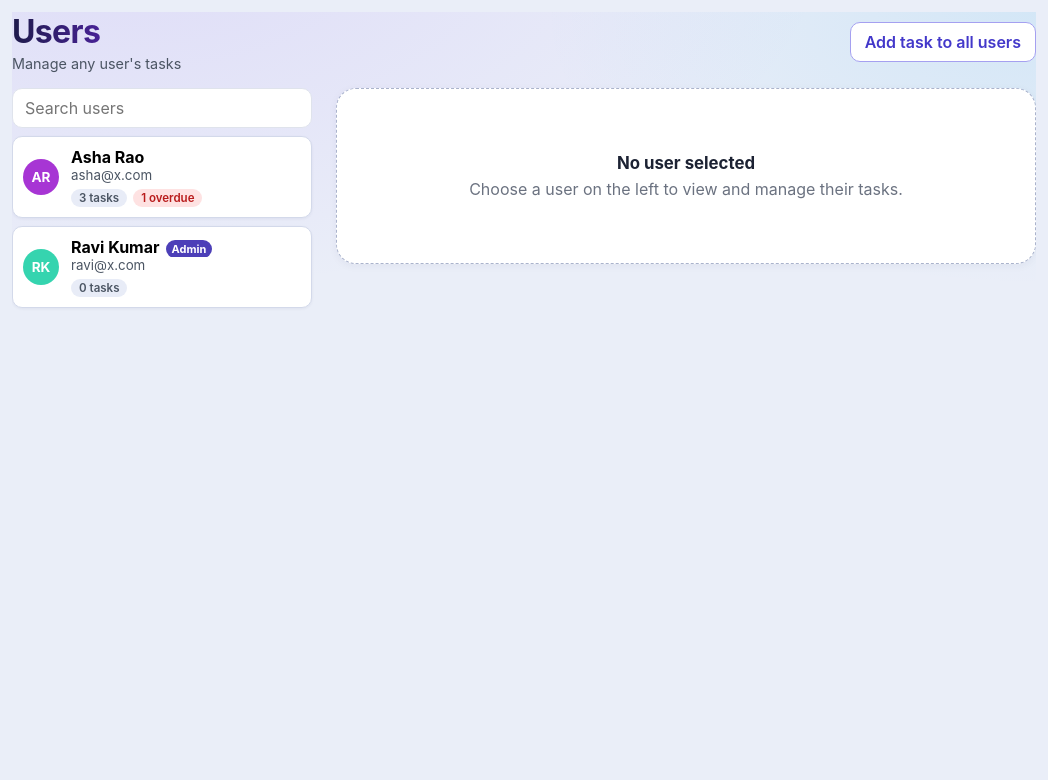
Scenario: AdminPanel › loads and shows the selected user tasks and their summary
Click the button "AR Asha Rao asha@x.com 3 tasks 1 overdue" at [41, 177], box [12, 136, 312, 218]
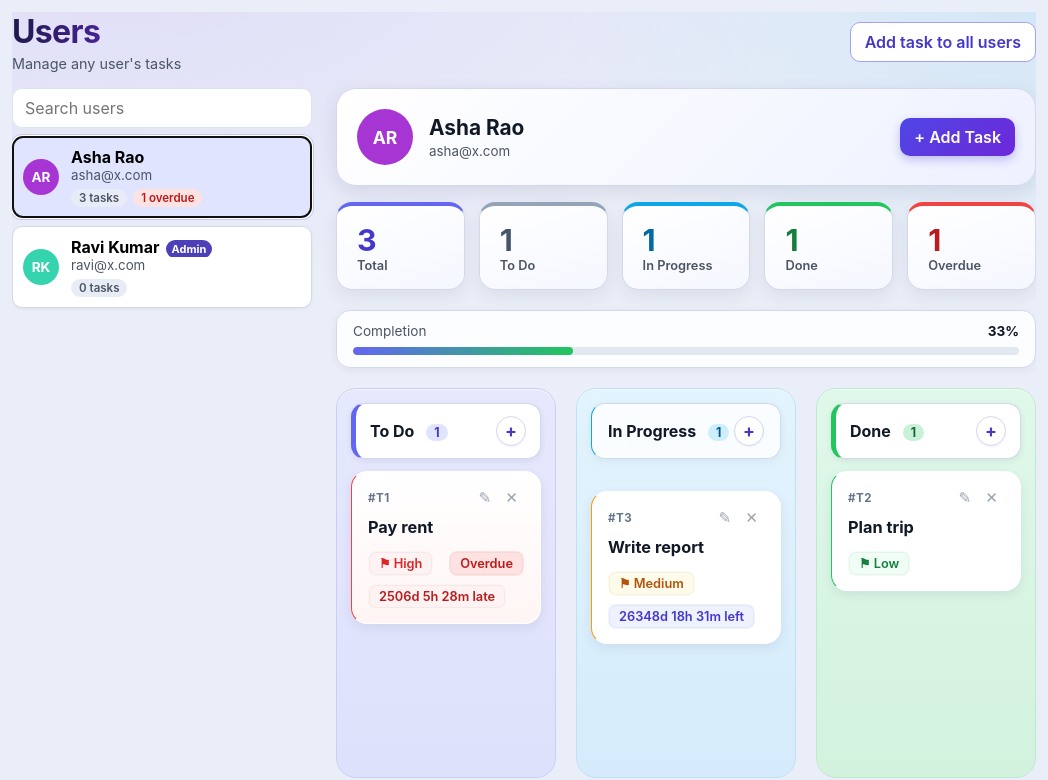
Check: the heading "Pay rent" is shown, box [368, 517, 433, 537]
Check: the heading "Plan trip" is shown, box [848, 517, 914, 537]
Check: the heading "Asha Rao" is shown, box [429, 114, 524, 140]
